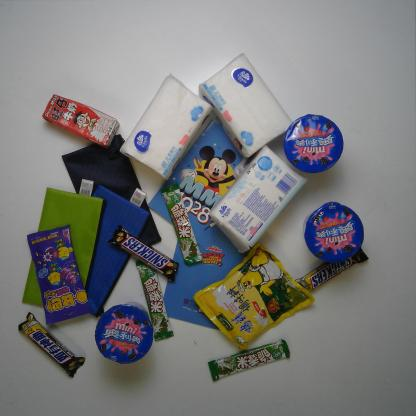Candy: (26, 224, 93, 325)
Chocolate: (17, 311, 86, 378), (107, 224, 180, 282), (207, 339, 291, 382), (160, 182, 203, 265), (296, 247, 370, 293), (135, 259, 174, 342)
Dessert: (93, 300, 154, 366), (304, 200, 364, 264), (283, 113, 344, 174)
Milk: (41, 94, 120, 150)
Seasoner: (192, 243, 315, 351)
Stationery: (146, 119, 254, 251), (61, 134, 162, 247), (21, 179, 108, 308), (162, 231, 252, 331), (85, 182, 150, 320)
Tissue: (209, 144, 308, 254), (197, 52, 294, 159), (119, 72, 214, 181)
